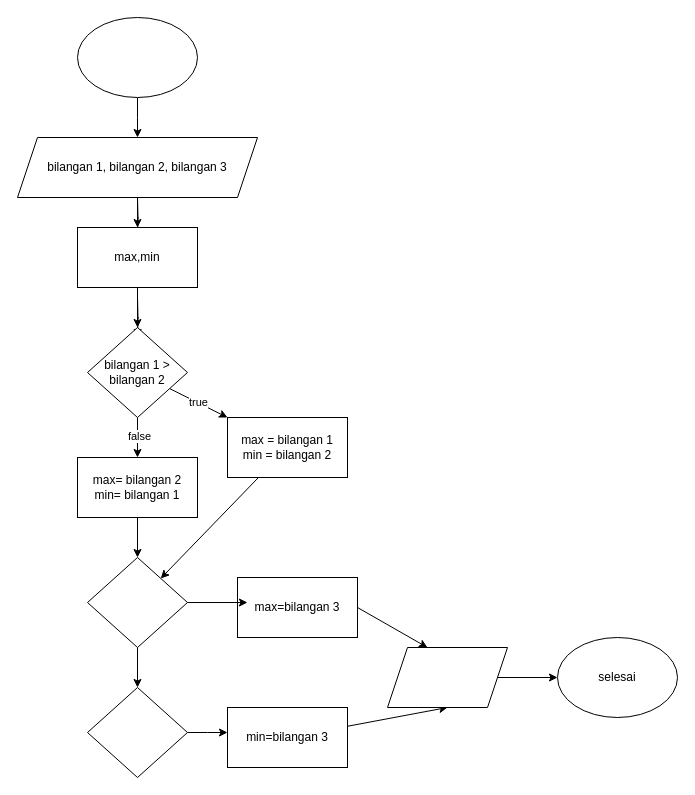
Image size: 695x795. Some labels were removed from this diagram. The centre of each missing label's shape, as x and y in pixels:
bilangan 3>max?: the point at 137,602
bilangan 3>min?: the point at 137,732
MULAI: the point at 137,57
print max print min: the point at 447,677
